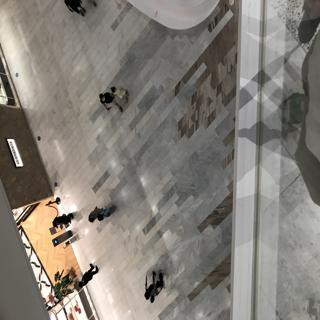person: (70, 258, 104, 295), (136, 267, 171, 302), (93, 88, 120, 116), (85, 206, 124, 223), (109, 82, 131, 108)
